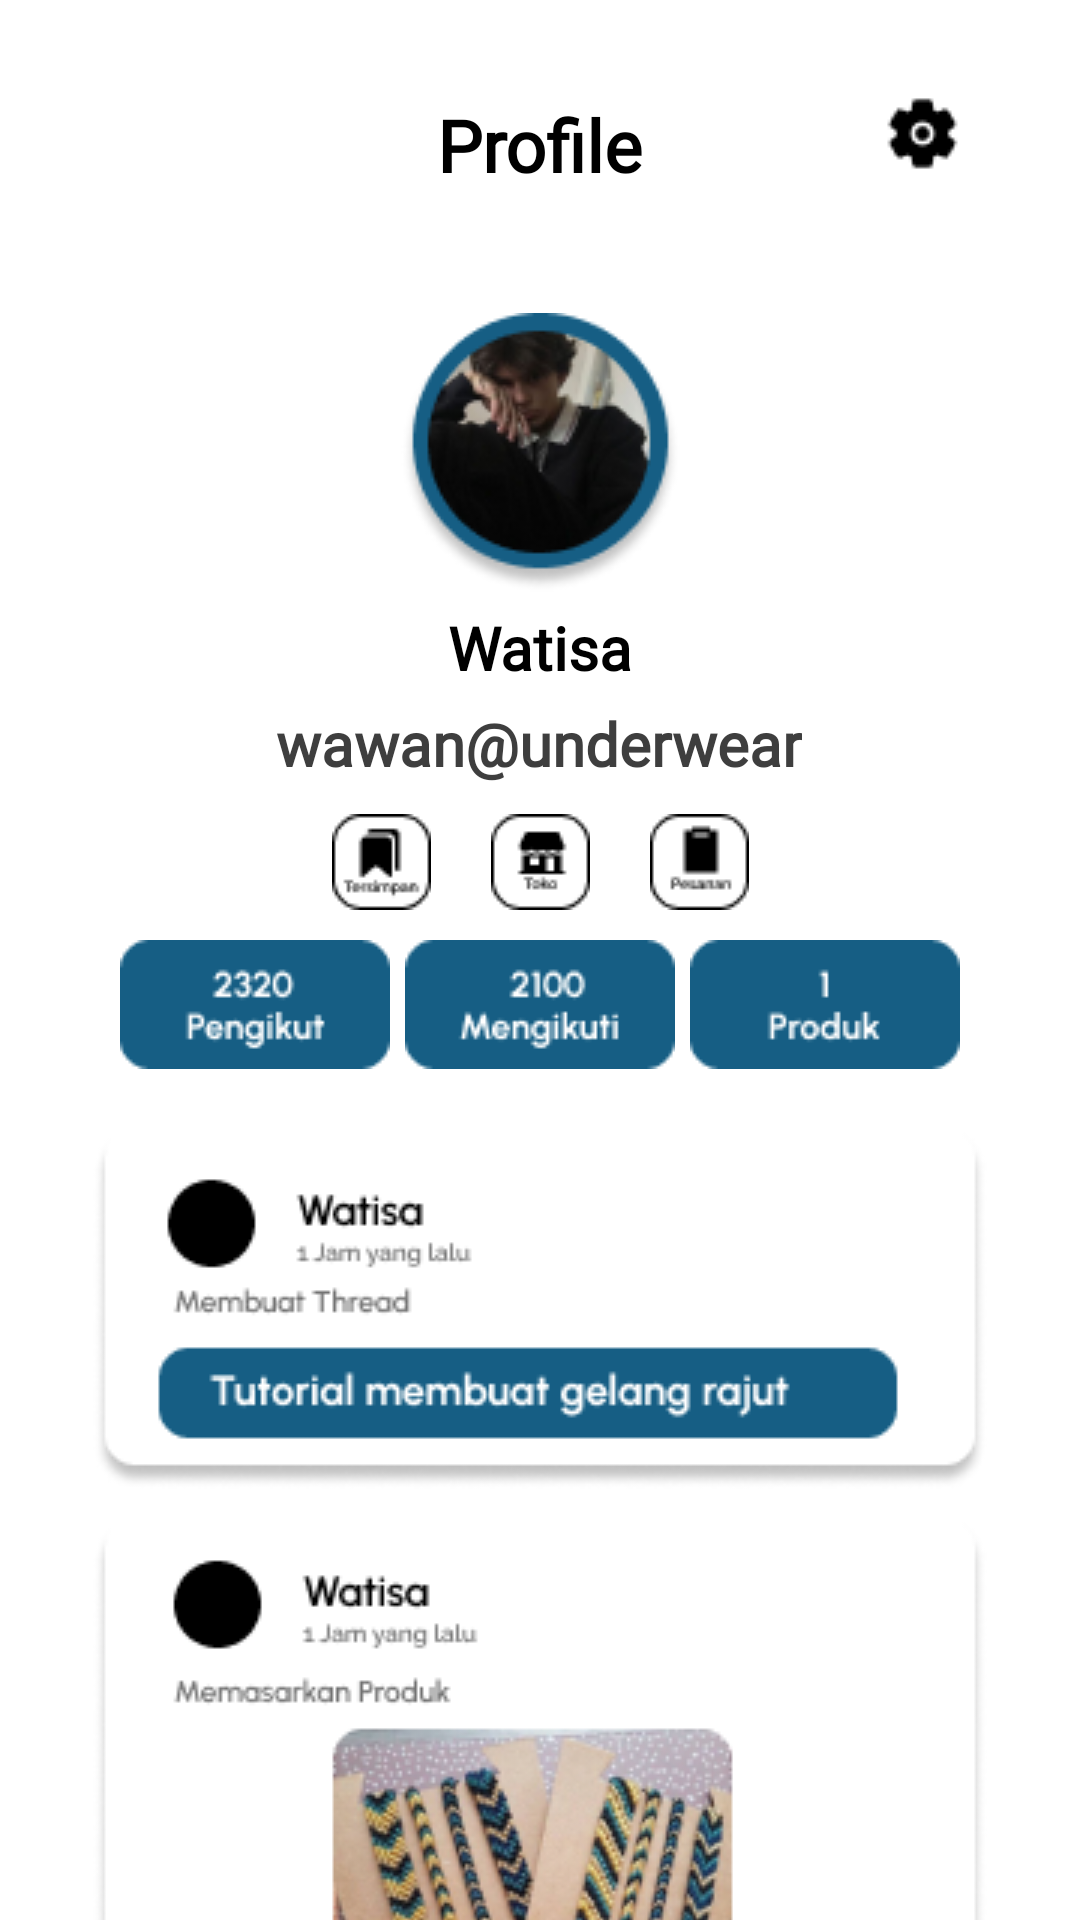

Screen size 1080px x 1920px. Icon name, then its center in pixels as (x,y):
settings: (922,133)
